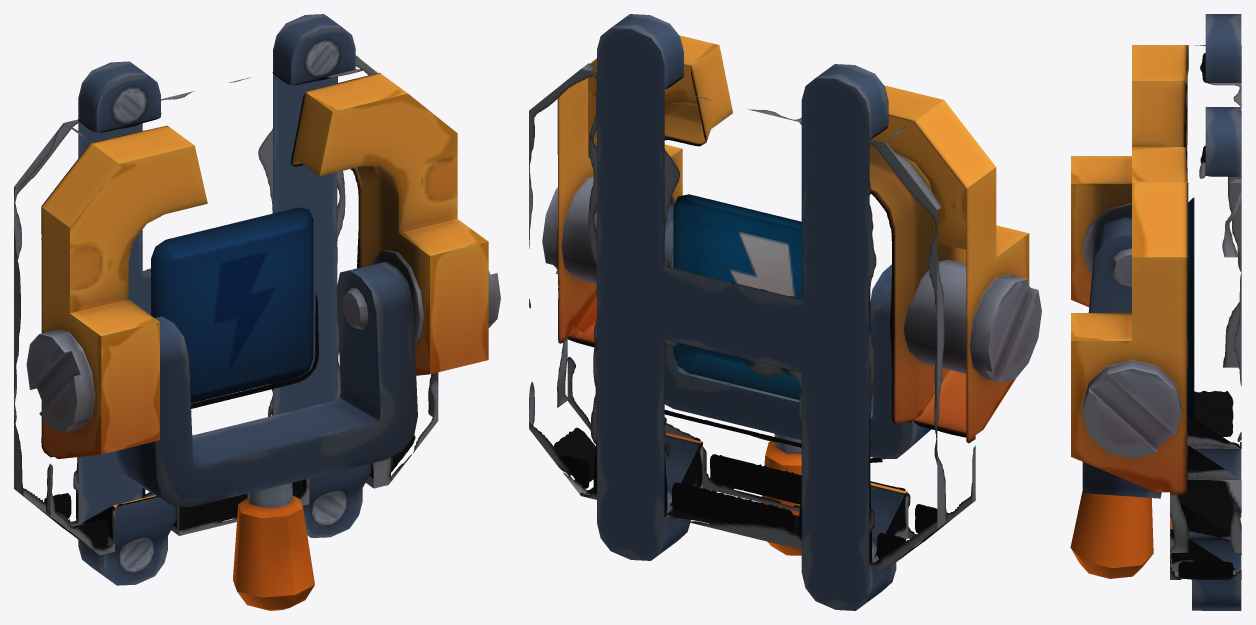
Rendered from obj_warehouse_masterswitch_pose0.fbx.
The picture shows the model from 3 angles, left to right: view 1: azimuth 30°, elevation 25°; view 2: azimuth 150°, elevation 25°; view 3: azimuth 270°, elevation 25°; orthographic projection. The views are drawn at different scales.
Visible parts, largest first — view 1: obj_warehouse_masterswitch_pose1; view 2: obj_warehouse_masterswitch_pose1; view 3: obj_warehouse_masterswitch_pose1.
Part boxes in pixels (box(x1,y1,x2,y2)): obj_warehouse_masterswitch_pose1: box(14, 14, 500, 610); obj_warehouse_masterswitch_pose1: box(529, 14, 1041, 610); obj_warehouse_masterswitch_pose1: box(1070, 14, 1241, 610).
Size of the model in its own units: 4.37 by 5.11 by 1.56.
